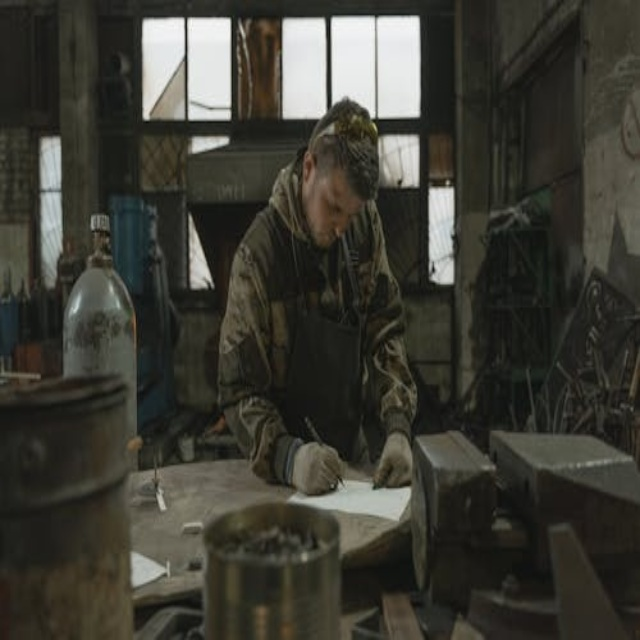Guantes: (289, 440, 343, 496), (373, 432, 413, 489)
Sin_gafas: (317, 183, 365, 229)
Sin_mascara: (311, 213, 344, 256)
